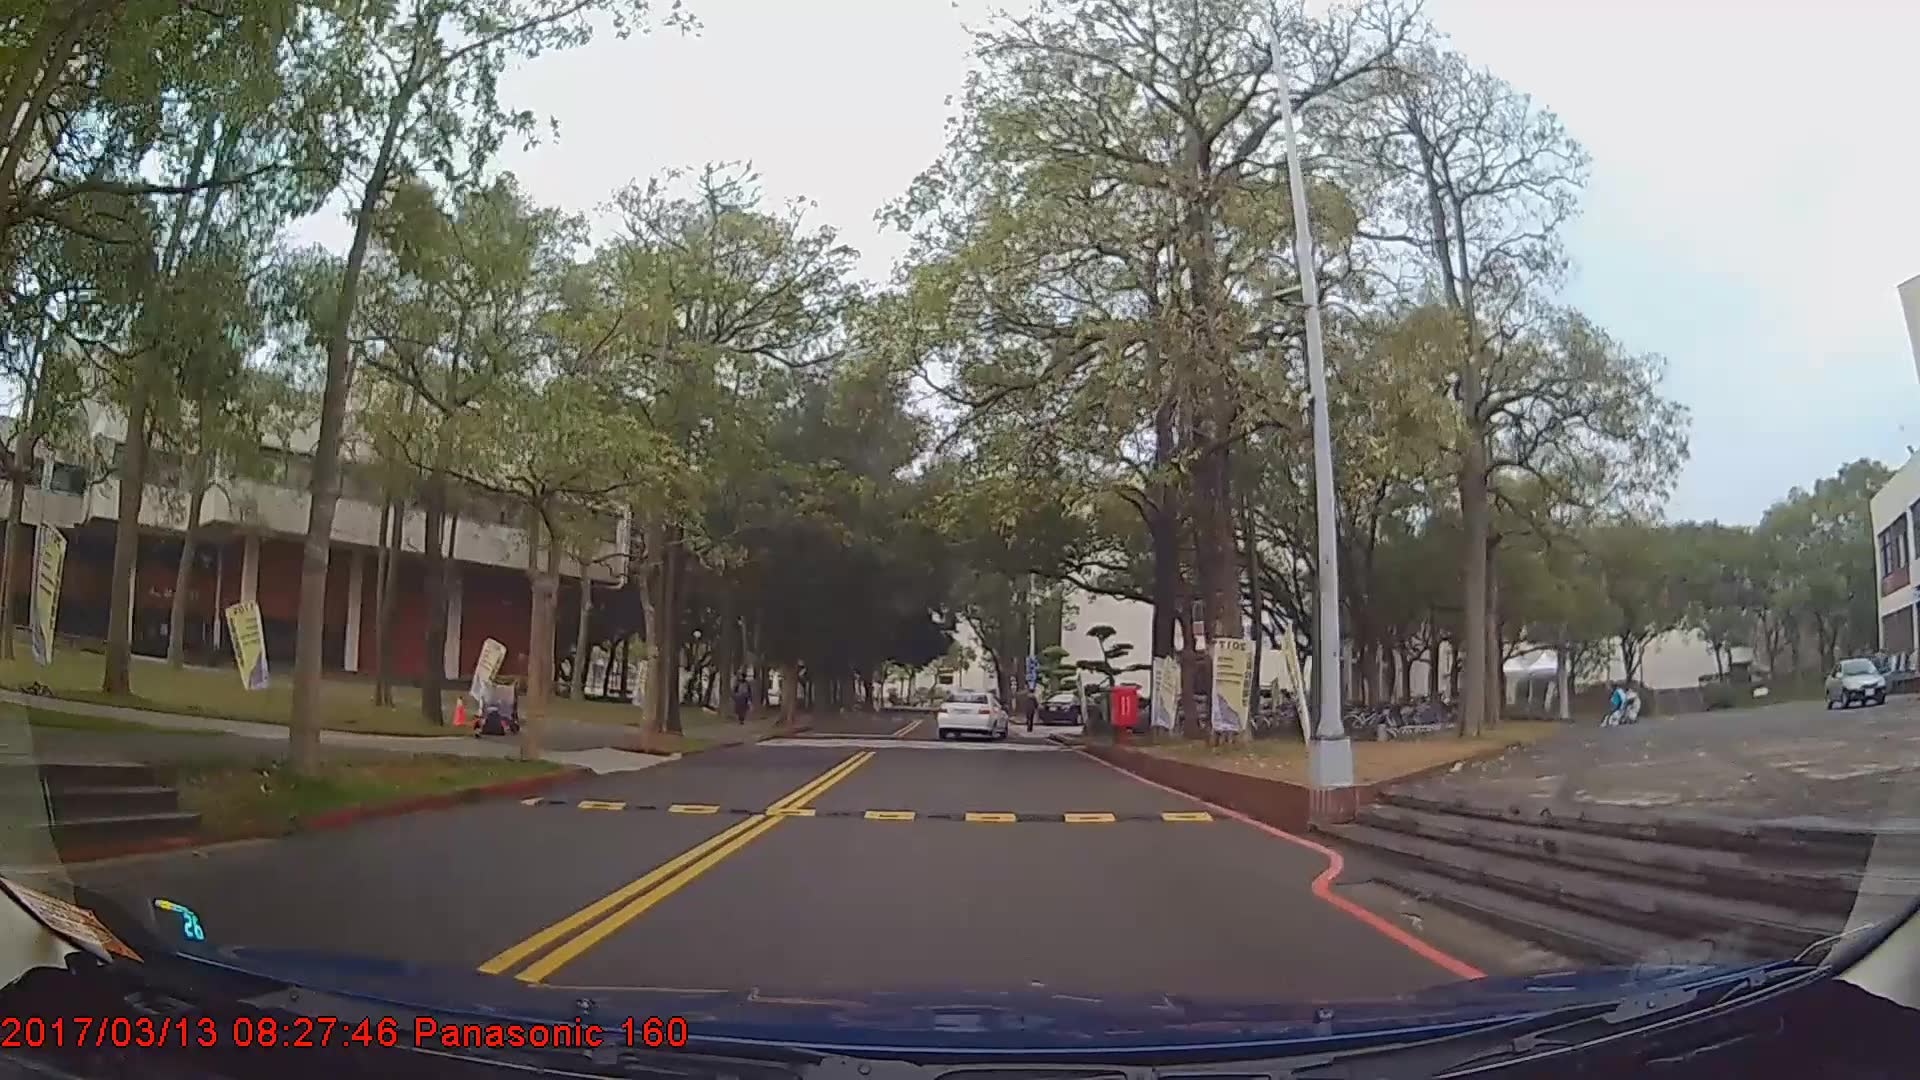pedestrian: (732, 672, 756, 726)
vehicle: (1820, 650, 1895, 710), (935, 688, 1009, 741), (1037, 689, 1092, 721)
